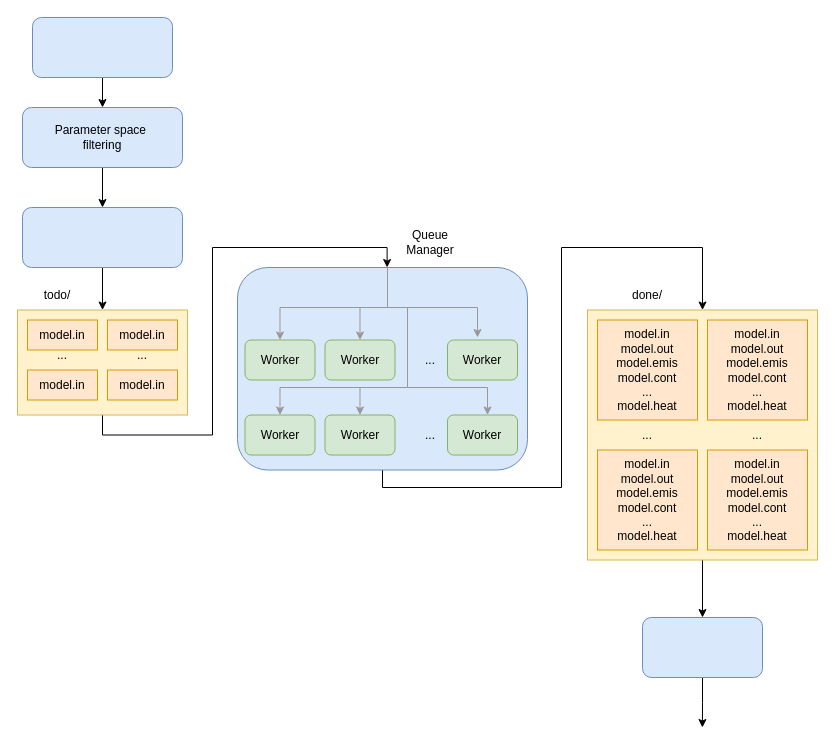
Some shapes in this 835 by 753 pixel diagram are drawn without their labels. Each missing label, with the box of its shape:
Creation of INPUT files: (22, 206, 182, 268)
LHS Sampling Input parameter space: (32, 16, 172, 78)
Parsing CLOUDY outputs: (642, 616, 762, 678)
